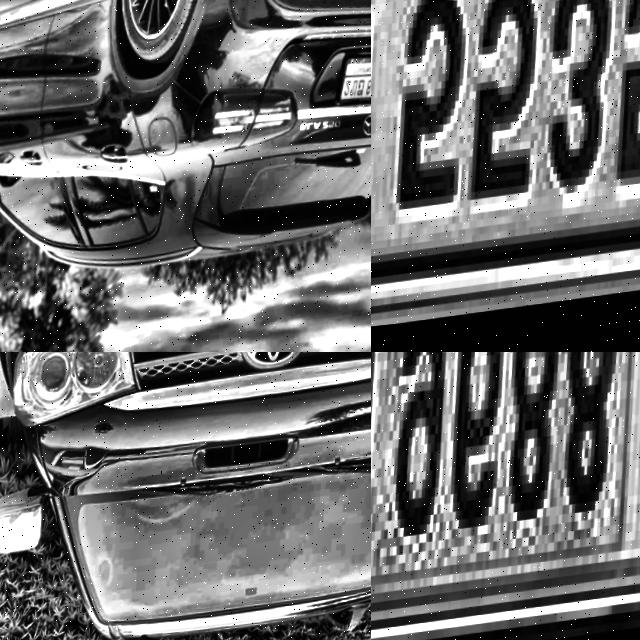license-plate: (371, 0, 640, 347), (371, 352, 640, 640), (342, 64, 371, 118)
